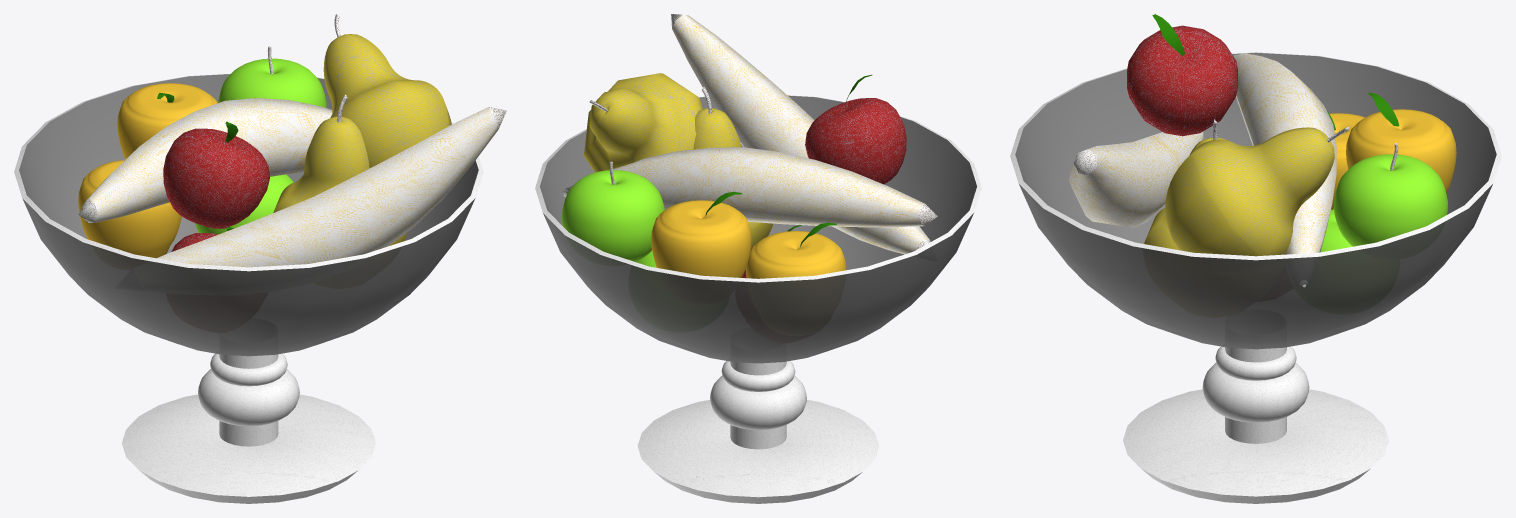
The picture shows the model from 3 angles, left to right: view 1: azimuth 30°, elevation 25°; view 2: azimuth 150°, elevation 25°; view 3: azimuth 270°, elevation 25°; orthographic projection. The views are drawn at different scales.
Visible parts, largest first — view 1: bowl (×4), banana (×2), pear (×2), apple_half (×2), apples (×2), apple (×2); view 2: bowl (×4), banana (×2), apples (×2), pear (×2), apple, apple_half (×2); view 3: bowl (×4), pear (×2), banana (×2), apple_half (×2), apple (×2), apples (×2).
Boxes of the visible parts, left/top/right/bottom form: bowl (×4): left=14, top=73, right=483, bottom=503; banana (×2): left=86, top=98, right=498, bottom=267; pear (×2): left=273, top=34, right=451, bottom=245; apple_half (×2): left=163, top=128, right=269, bottom=228; apples (×2): left=78, top=83, right=217, bottom=258; apple (×2): left=195, top=58, right=326, bottom=234; bowl (×4): left=535, top=95, right=981, bottom=503; banana (×2): left=613, top=14, right=929, bottom=254; apples (×2): left=651, top=200, right=846, bottom=278; pear (×2): left=584, top=73, right=773, bottom=248; apple: left=561, top=170, right=664, bottom=261; apple_half (×2): left=805, top=98, right=906, bottom=184; bowl (×4): left=1010, top=52, right=1501, bottom=503; pear (×2): left=1144, top=127, right=1334, bottom=256; banana (×2): left=1069, top=53, right=1336, bottom=254; apple_half (×2): left=1127, top=25, right=1237, bottom=136; apple (×2): left=1320, top=154, right=1447, bottom=252; apples (×2): left=1329, top=109, right=1456, bottom=209.
Size of the model in its own units: 12.07 by 12.07 by 10.91.
